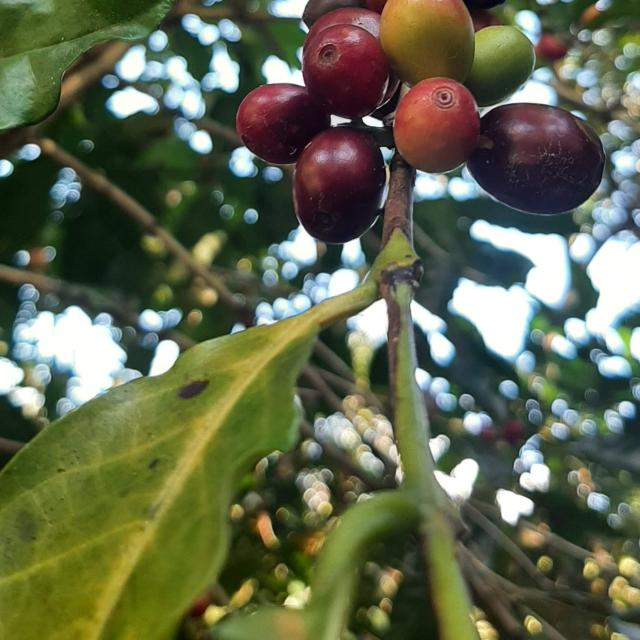green: (465, 24, 536, 106)
red: (468, 102, 607, 214), (293, 126, 386, 243), (302, 24, 390, 118), (236, 83, 330, 164)
yellow: (394, 76, 481, 172), (380, 0, 475, 84)
